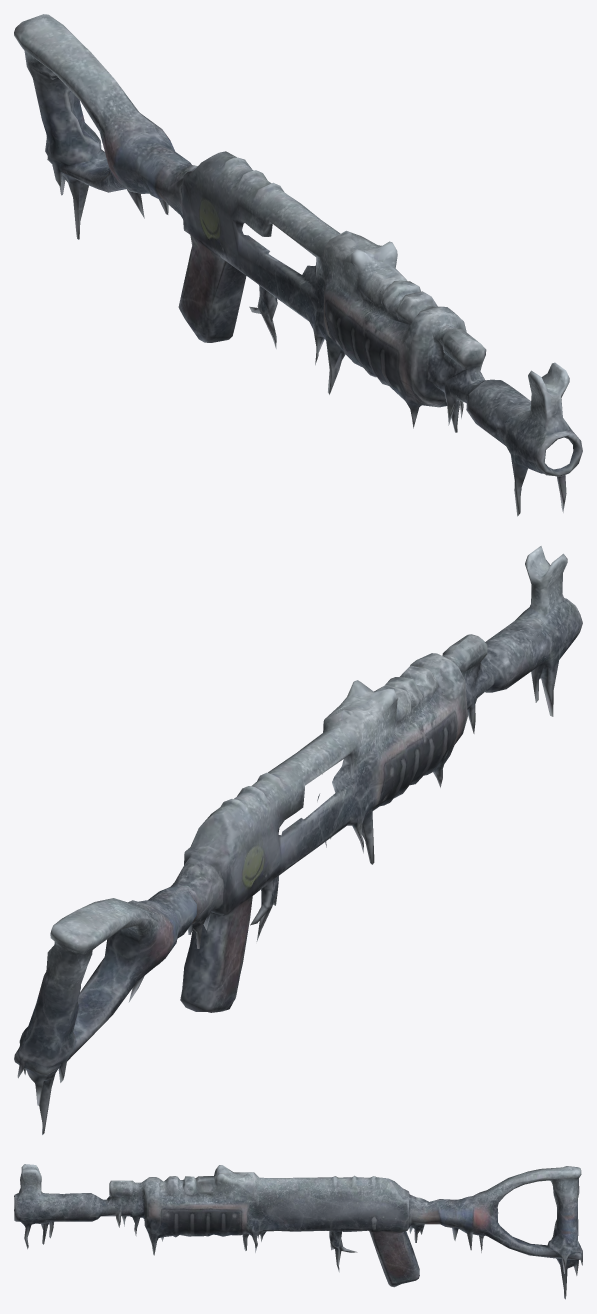
File: w_akice.glb
3 views of the same model, one above another, from view 1: azimuth 30°, elevation 25°; view 2: azimuth 150°, elevation 25°; view 3: azimuth 270°, elevation 25° (orthographic). The views are drawn at different scales.
Visible parts, largest first — view 1: AkIce_LOD0; view 2: AkIce_LOD0; view 3: AkIce_LOD0.
Part boxes in pixels (x1,y1,x2,y2): AkIce_LOD0: (14, 14, 582, 516); AkIce_LOD0: (14, 546, 582, 1134); AkIce_LOD0: (14, 1164, 582, 1299).
Size of the model in its own units: 0.0661 by 0.188 by 0.7556.
Materials: 1 (1 with a texture image).
